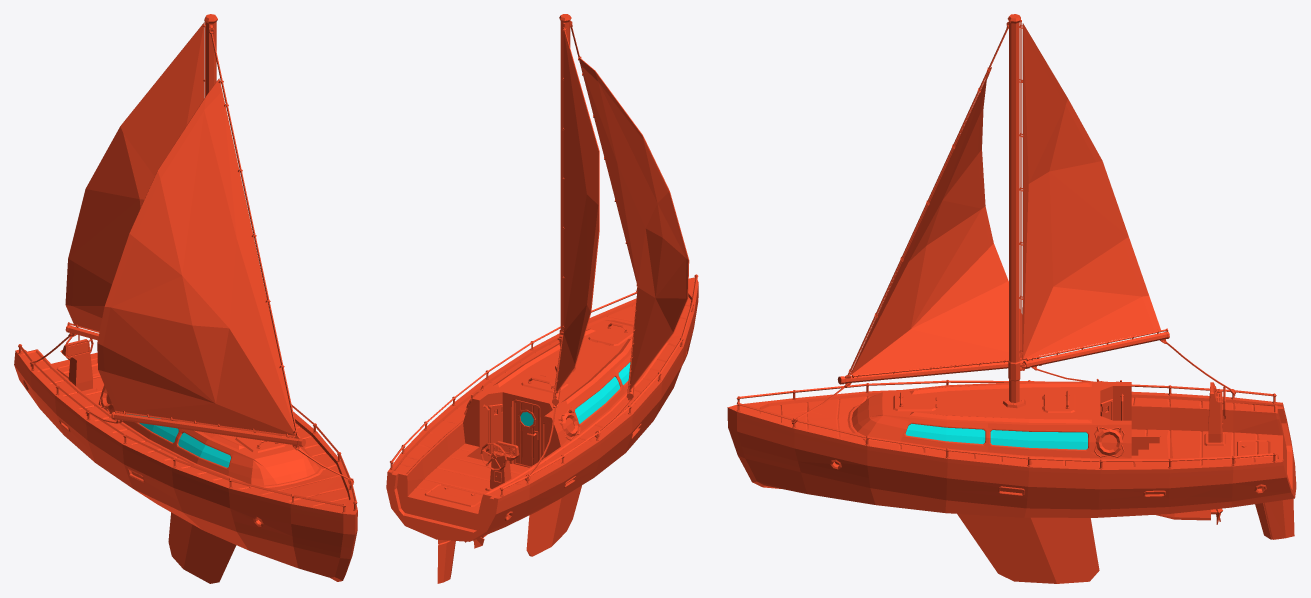
File: SM_Sailboat_A.fbx
The picture shows the model from 3 angles, left to right: view 1: azimuth 30°, elevation 25°; view 2: azimuth 150°, elevation 25°; view 3: azimuth 270°, elevation 25°; orthographic projection. The views are drawn at different scales.
Parts seen in each view (by area): view 1: SM_Sailboat_A_Base; view 2: SM_Sailboat_A_Base, SM_Sailboat_A_Door; view 3: SM_Sailboat_A_Base.
Boxes of the visible parts, x1,y1,x2,y2 form: SM_Sailboat_A_Base: (14,14,357,583); SM_Sailboat_A_Base: (386,14,698,583); SM_Sailboat_A_Door: (513,399,540,467); SM_Sailboat_A_Base: (727,14,1296,583).
Size of the model in its own units: 5.79 by 15.19 by 13.87.
